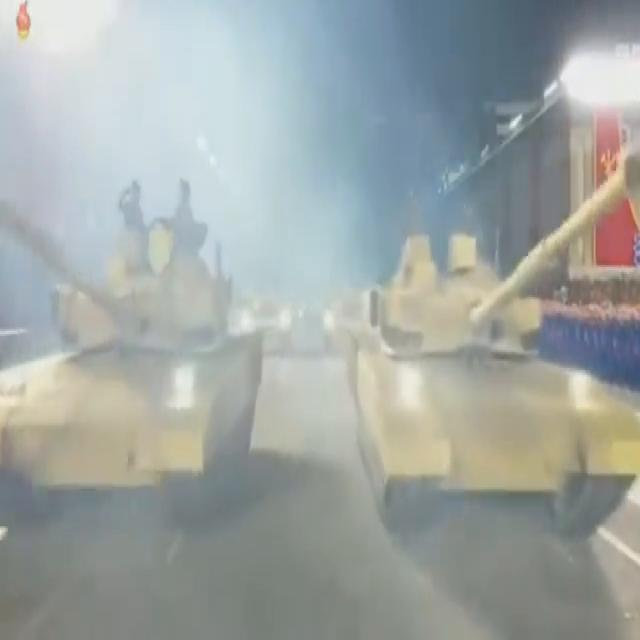north tank: (335, 132, 640, 542), (0, 149, 272, 537)
